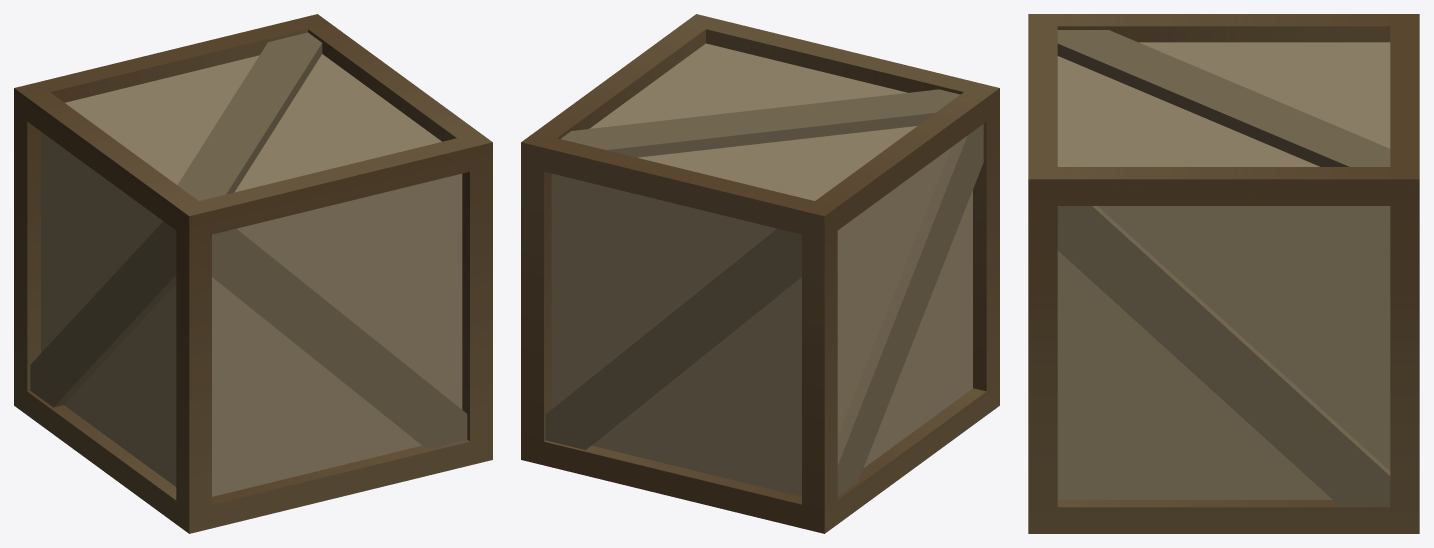
The model's file is Crate_1A.fbx.
3 renders of one model, left to right at view 1: azimuth 30°, elevation 25°; view 2: azimuth 150°, elevation 25°; view 3: azimuth 270°, elevation 25°, orthographic. The views are drawn at different scales.
Visible parts, largest first — view 1: polySurface9642; view 2: polySurface9642; view 3: polySurface9642.
Part boxes in pixels (bbox=[...]): polySurface9642: bbox=[14, 14, 492, 533]; polySurface9642: bbox=[521, 14, 999, 533]; polySurface9642: bbox=[1028, 14, 1419, 533].
Size of the model in its own units: 120 by 120 by 120.
